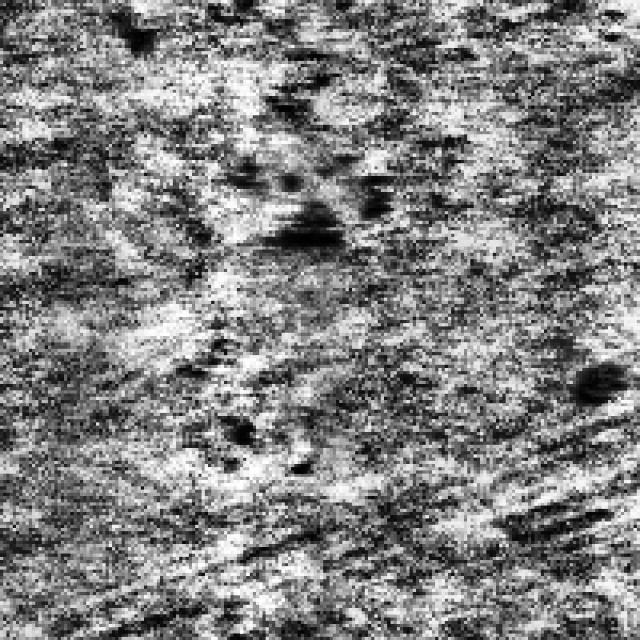Crazing: (218, 77, 396, 253)
